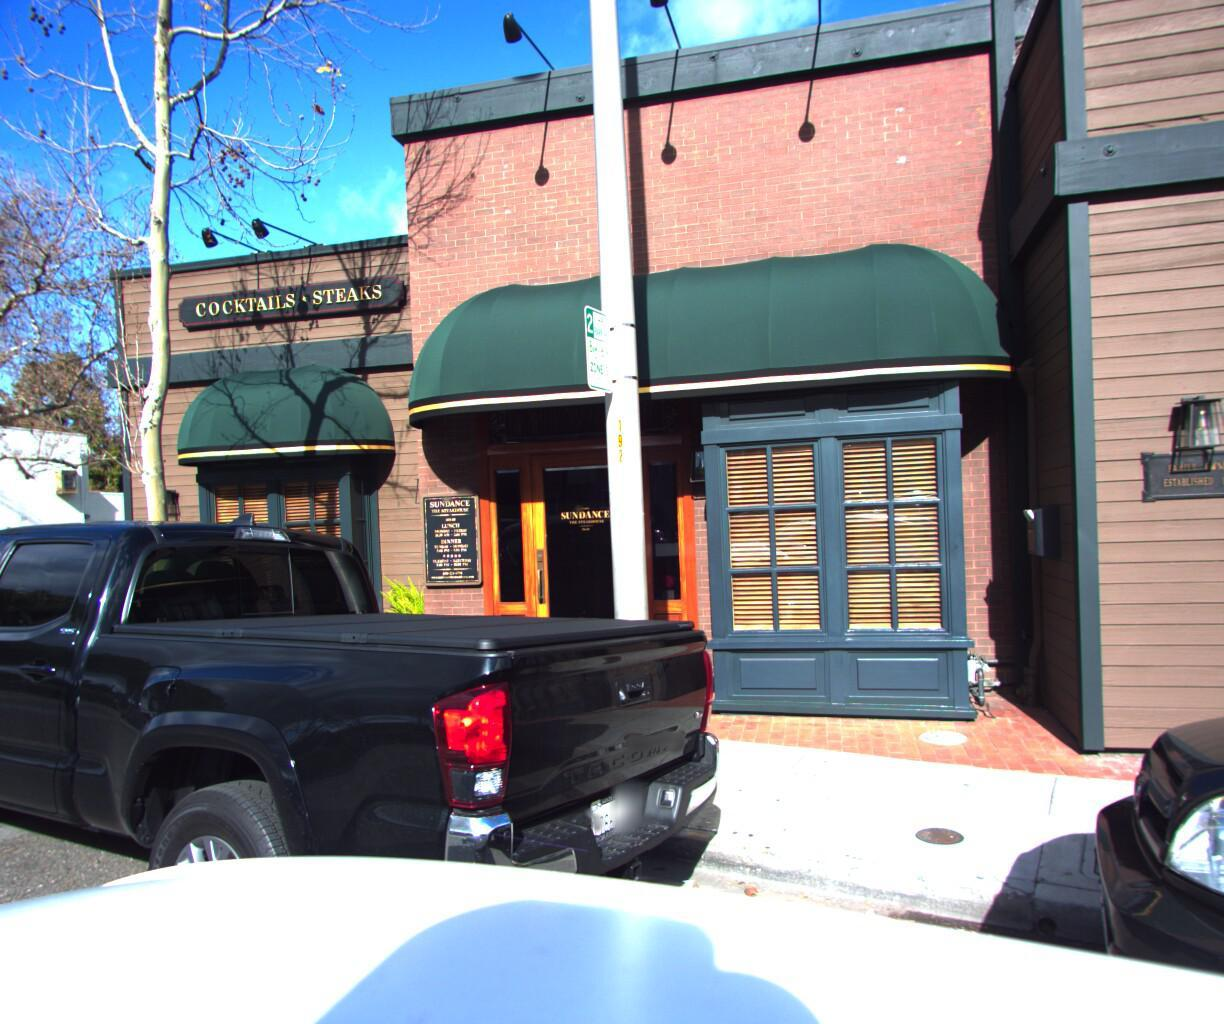car: (0, 464, 738, 1024), (0, 529, 86, 628)
